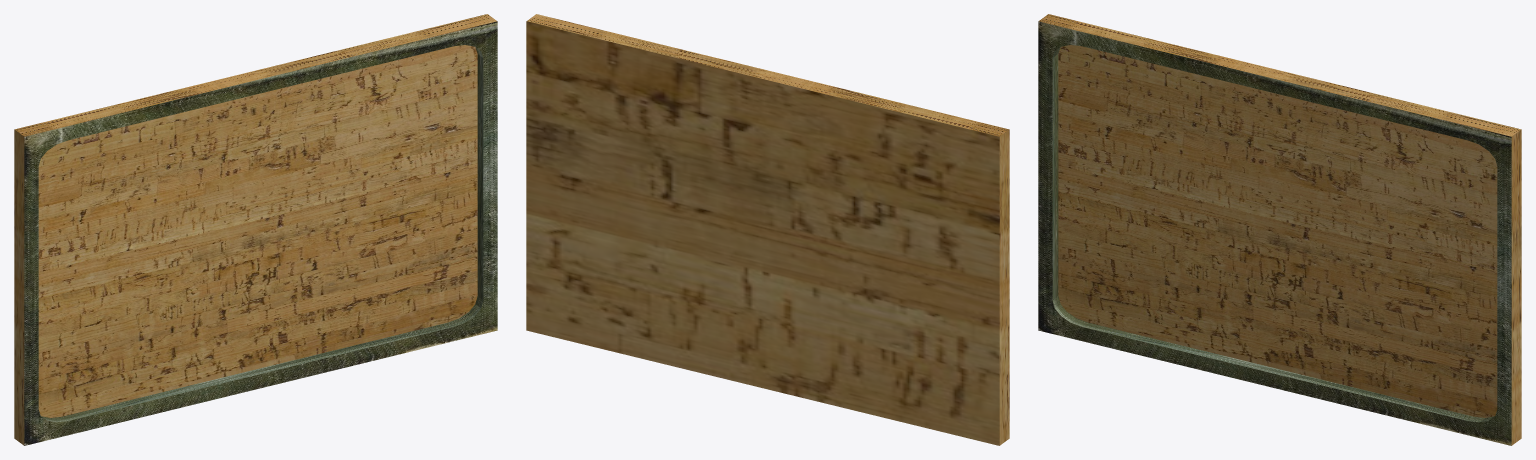
The model's file is DOSKA.fbx.
3 views of the same model, side by side, from view 1: azimuth 30°, elevation 25°; view 2: azimuth 150°, elevation 25°; view 3: azimuth 330°, elevation 25° (orthographic).
Parts seen in each view (by area): view 1: DOSKA.002; view 2: DOSKA.002; view 3: DOSKA.002.
Boxes of the visible parts, box(x1,y1,x2,y2) form: DOSKA.002: box(14, 14, 497, 445); DOSKA.002: box(526, 14, 1009, 445); DOSKA.002: box(1038, 14, 1521, 445).
Size of the model in its own units: 760 by 475 by 27.84.
Materials: 2 (2 with a texture image).
